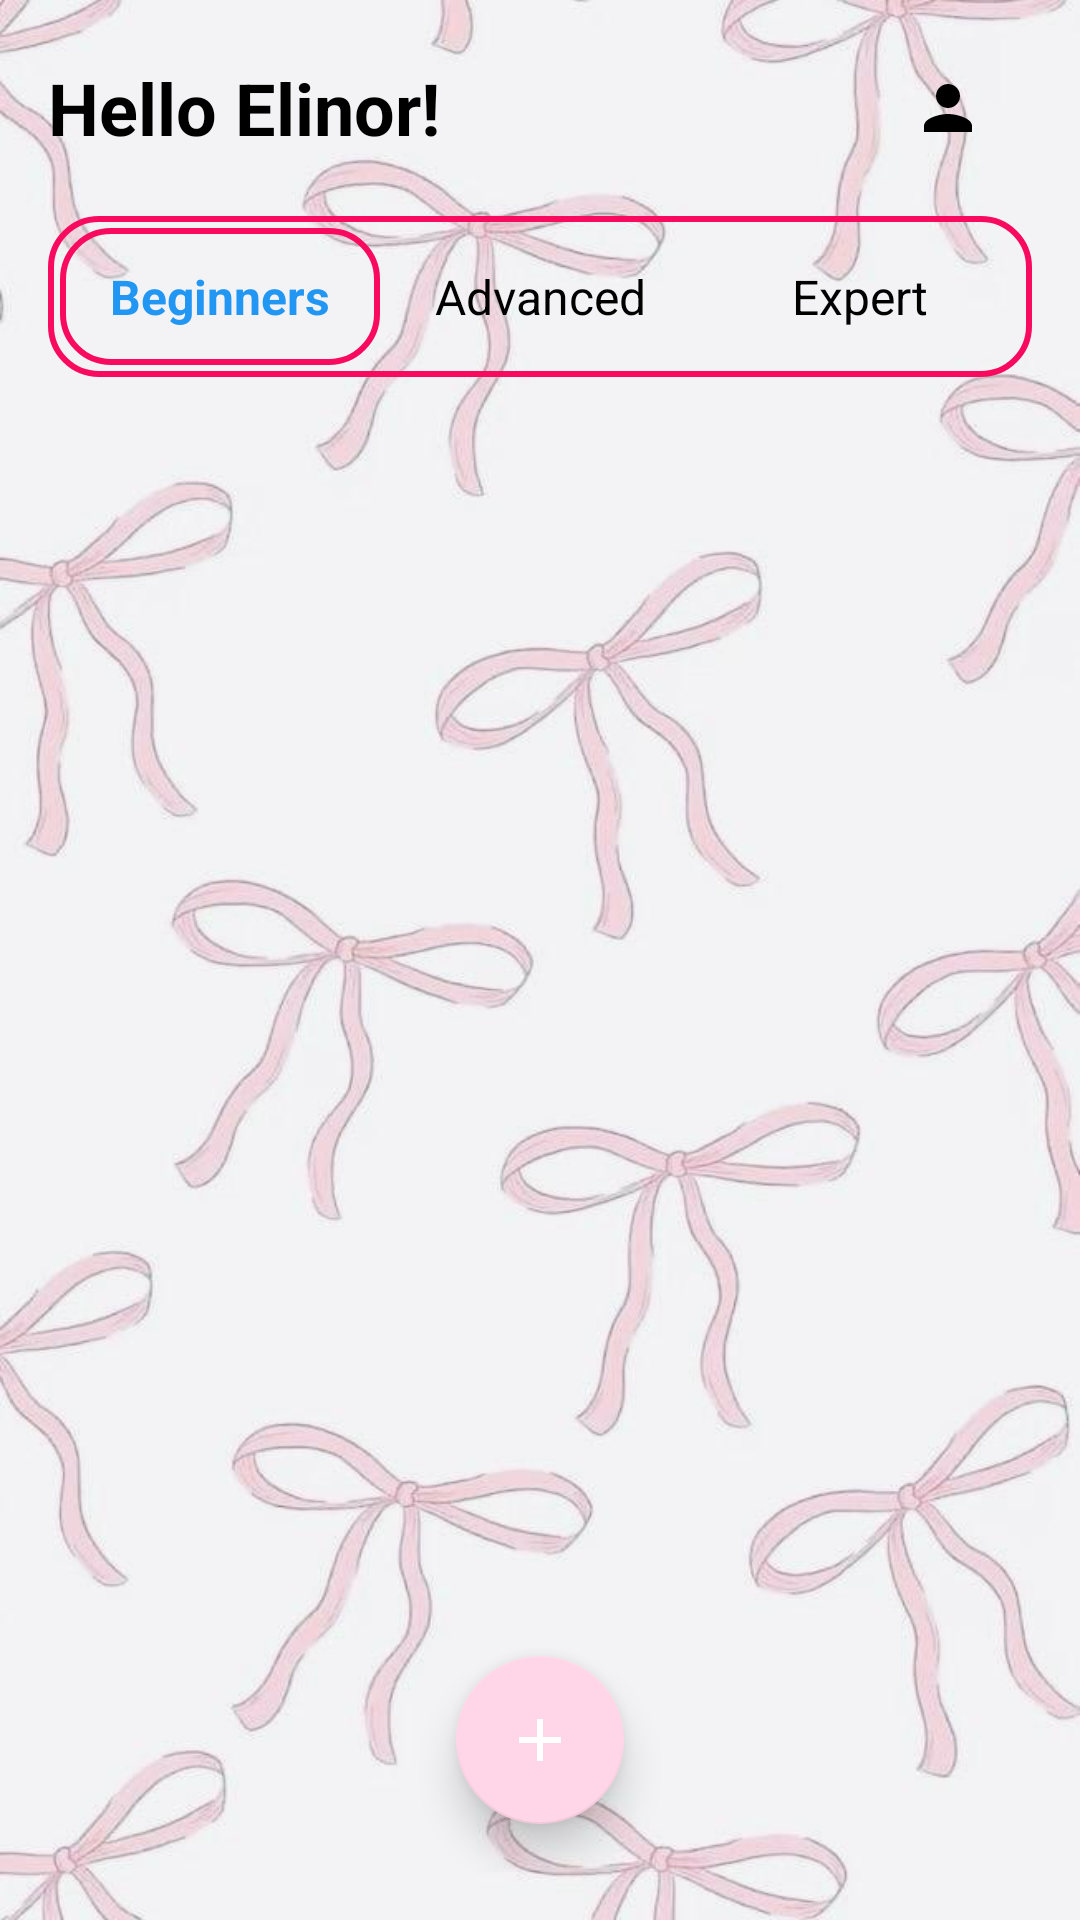

Locate icon controls on the screen. Image size 1080×1920, boxes as (x1, y1, x2, y2).
add: (456, 1658, 624, 1824)
